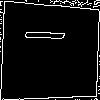I: (25, 27, 75, 43)
